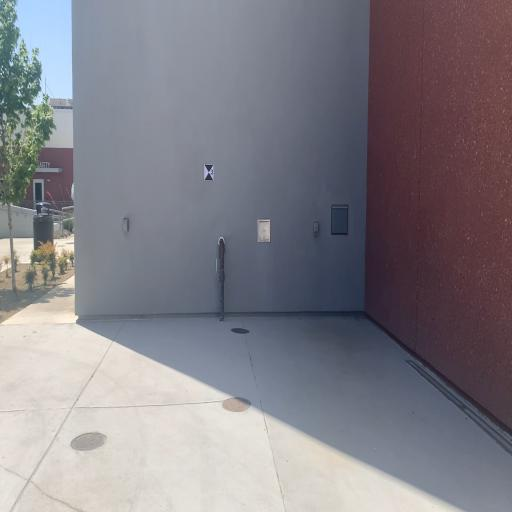target3: (204, 164, 214, 183)
